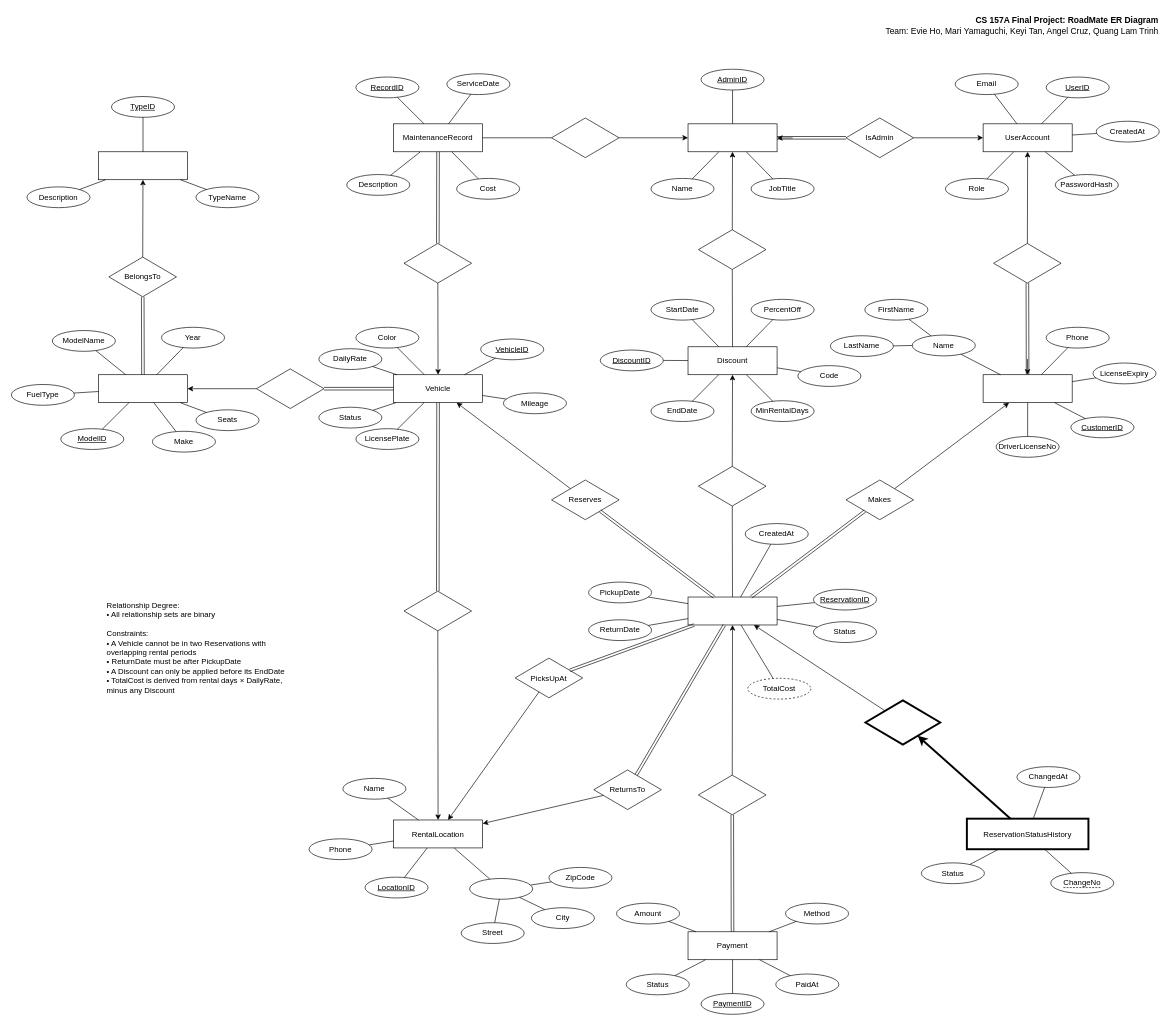
Some shapes in this 1171 by 1026 pixel diagram are drawn without their labels. Each missing label, with the box of its shape:
Address: (469, 878, 533, 899)
Admin: (687, 123, 777, 152)
Applies: (698, 466, 766, 506)
BasedAt: (403, 591, 472, 631)
Creates: (698, 229, 766, 269)
Customer: (982, 374, 1072, 403)
HasStatus: (864, 699, 941, 745)
IsCustomer: (993, 243, 1061, 283)
IsModel: (256, 368, 324, 409)
Pays: (698, 774, 766, 815)
Records: (551, 117, 619, 158)
Reservation: (687, 596, 777, 625)
Undergoes: (403, 243, 472, 283)
VehicleModel: (98, 374, 188, 403)
VehicleType: (98, 151, 188, 180)
